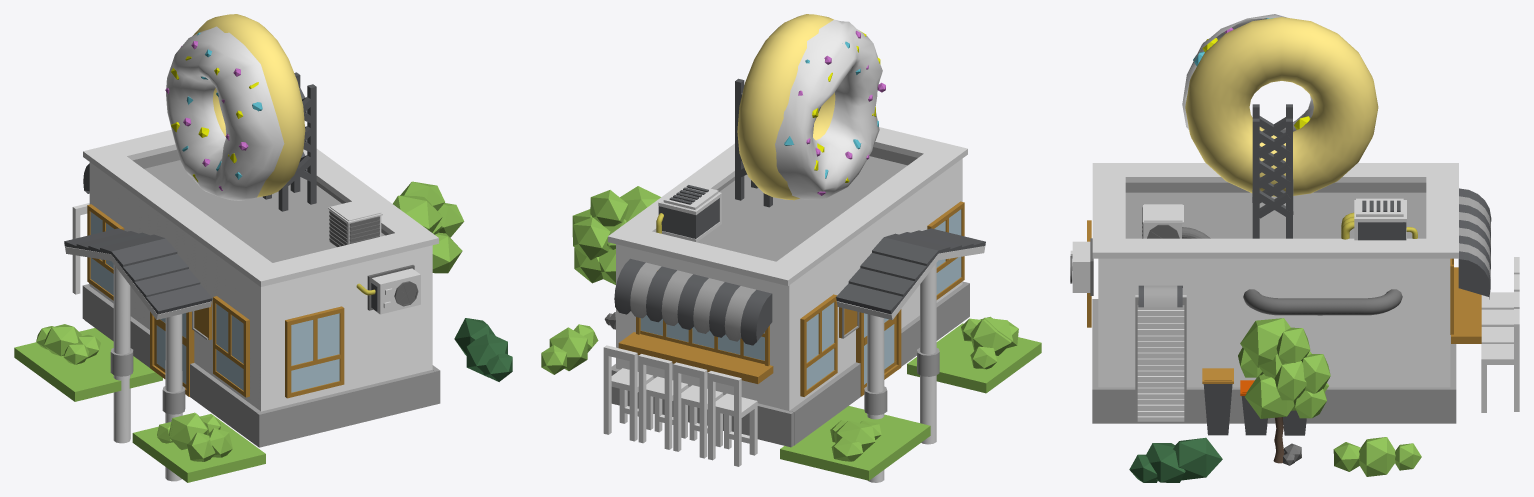
Rendered from donuts shop Deb.fbx.
3 renders of one model, left to right at view 1: azimuth 30°, elevation 25°; view 2: azimuth 150°, elevation 25°; view 3: azimuth 270°, elevation 25°, orthographic. The views are drawn at different scales.
Parts seen in each view (by area): view 1: glassa, parete_dx_casa_ciambella1, front_casa_ciambella, tetto, porticato (×2), parete_grigia_dx_casa_ciambella, ciambella1, piano_tetto_back1, pratino_sx_casa_ciambella, piano_tetto_side, preatino_dx, glass_of_the_window8 (+29 smaller); view 2: glassa, front_casa_ciambella, ciambella1, tetto, porticato, piano_tetto_back1, pratino_sx_casa_ciambella, parete_sx_casa_ciambella, piano_tettp_soed_3, preatino_dx, conditioner_donut_shop, mensola (+44 smaller); view 3: parete_back_casa_ciambella1, ciambella1, tetto, muretto_griugio_back, piano_tetto_back2, pasted__struttura_per_ciambella2, piano_tetto_back1, piano_tetto_side, piano_tettp_soed_3, tube1, conditioner_donut_shop, interno_tetto_front (+28 smaller).
Boxes of the visible parts, <box> form: glassa: <box>166,26,284,200</box>; parete_dx_casa_ciambella1: <box>270,247,423,409</box>; front_casa_ciambella: <box>89,162,270,411</box>; tetto: <box>144,160,385,262</box>; porticato (×2): <box>64,228,212,319</box>; parete_grigia_dx_casa_ciambella: <box>256,370,435,447</box>; ciambella1: <box>193,14,305,197</box>; piano_tetto_back1: <box>99,156,271,275</box>; pratino_sx_casa_ciambella: <box>14,328,162,401</box>; piano_tetto_side: <box>245,226,438,286</box>; preatino_dx: <box>132,414,265,482</box>; glass_of_the_window8: <box>291,313,339,392</box>; glassa: <box>775,19,882,199</box>; front_casa_ciambella: <box>780,158,962,410</box>; ciambella1: <box>737,14,835,200</box>; tetto: <box>697,156,907,261</box>; porticato: <box>836,228,985,319</box>; piano_tetto_back1: <box>776,153,951,273</box>; pratino_sx_casa_ciambella: <box>780,406,930,480</box>; parete_sx_casa_ciambella: <box>625,246,779,408</box>; piano_tettp_soed_3: <box>608,224,804,285</box>; preatino_dx: <box>907,323,1041,393</box>; conditioner_donut_shop: <box>656,183,721,242</box>; mensola: <box>618,332,773,383</box>; parete_back_casa_ciambella1: <box>1098,258,1450,387</box>; ciambella1: <box>1185,17,1378,196</box>; tetto: <box>1125,192,1426,238</box>; muretto_griugio_back: <box>1186,387,1456,423</box>; piano_tetto_back2: <box>1125,238,1426,258</box>; pasted__struttura_per_ciambella2: <box>1252,104,1293,238</box>; piano_tetto_back1: <box>1125,163,1426,182</box>; piano_tetto_side: <box>1092,163,1125,258</box>; piano_tettp_soed_3: <box>1426,163,1458,258</box>; tube1: <box>1243,289,1402,315</box>; conditioner_donut_shop: <box>1341,198,1417,240</box>; interno_tetto_front: <box>1125,182,1426,192</box>.
Size of the model in its own units: 6.79 by 7.27 by 6.98.
